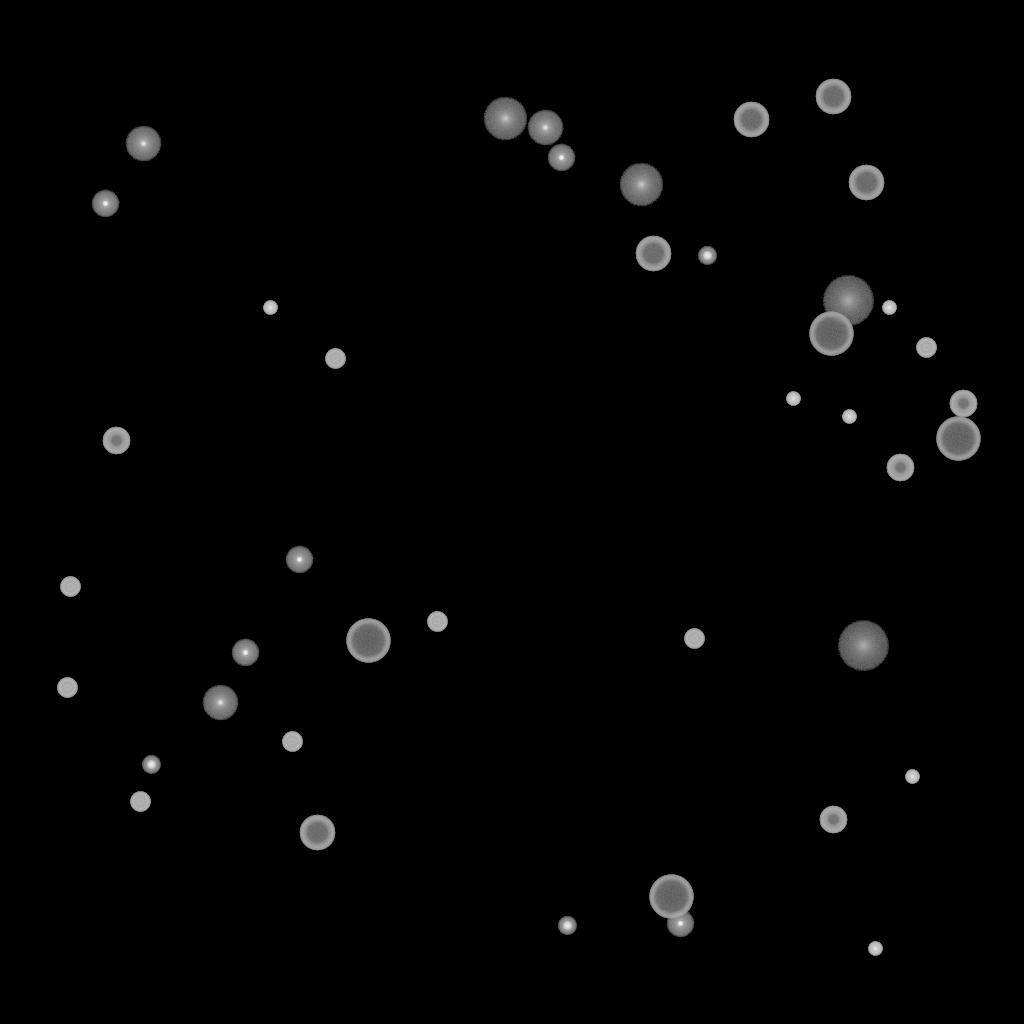depth:-10: (666, 910, 694, 938), (547, 144, 575, 172), (285, 546, 313, 574), (231, 639, 259, 667), (91, 190, 119, 218)
depth:-20: (558, 917, 576, 935), (142, 756, 160, 774), (698, 247, 716, 265)
depth:-30: (868, 942, 882, 956), (786, 392, 800, 406), (905, 770, 919, 784), (263, 301, 277, 315), (842, 410, 856, 424), (882, 301, 896, 315)
depth:-40: (57, 678, 77, 698), (282, 732, 302, 752), (916, 338, 936, 358), (427, 612, 447, 632), (325, 349, 345, 369), (130, 792, 150, 812), (60, 577, 80, 597), (684, 629, 704, 649)
depth:-50: (819, 806, 847, 834), (949, 390, 977, 418), (886, 454, 914, 482), (102, 427, 130, 455)
depth:-60: (848, 165, 884, 201), (299, 815, 335, 851), (815, 79, 851, 115), (733, 102, 769, 138), (635, 236, 671, 272)
depth:-70: (936, 417, 980, 461), (649, 875, 693, 919), (346, 619, 390, 663), (809, 312, 853, 356)
depth:0: (527, 110, 563, 146), (202, 685, 238, 721), (125, 126, 161, 162)
depth:10: (619, 163, 663, 207), (483, 97, 527, 141)
depth:20: (822, 276, 874, 326), (837, 621, 889, 671)
